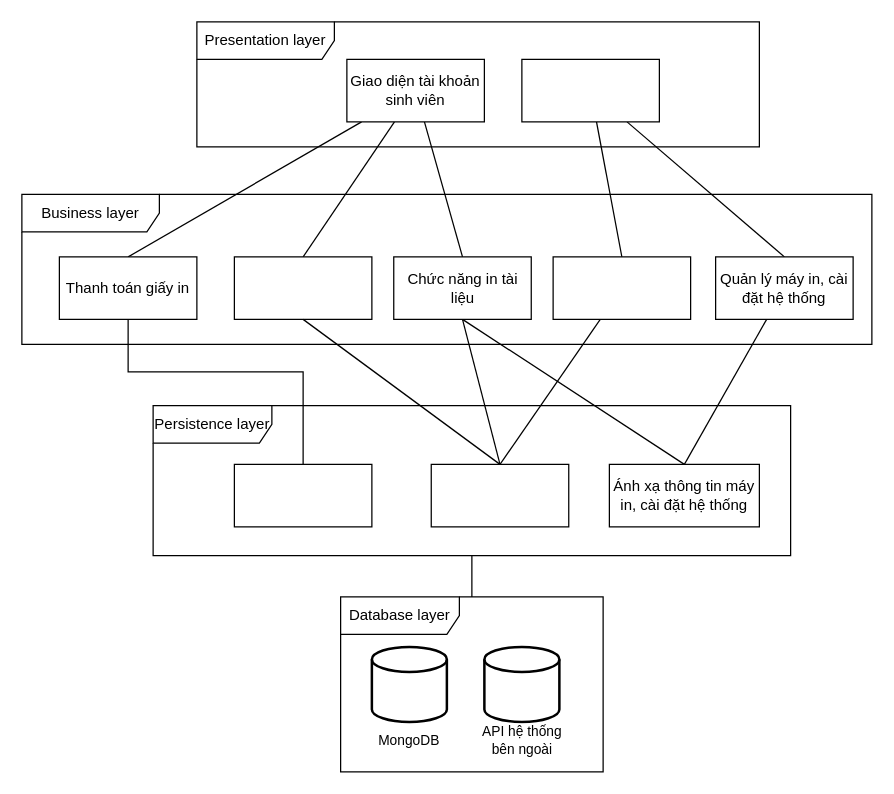
The diagram is 894 pixels wide and 794 high, and some of its shapes have lost their labels. The centre of each missing label's shape, as x and y in pixels:
"Giao diện tài khoản SPSO" goes at point 590,90.
"Xem lịch sử in của mình" goes at point 302,287.
"Xem tất cả lịch sử in" goes at point 621,287.
"Ánh xạ lịch sử in, tệp tải lên" goes at point 499,495.
"Ánh xạ thông tin người dùng" goes at point 302,495.
